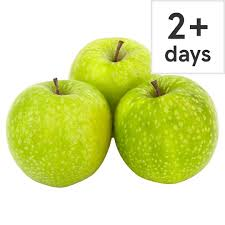apple: (114, 76, 221, 190), (4, 87, 120, 189), (65, 31, 161, 100)
